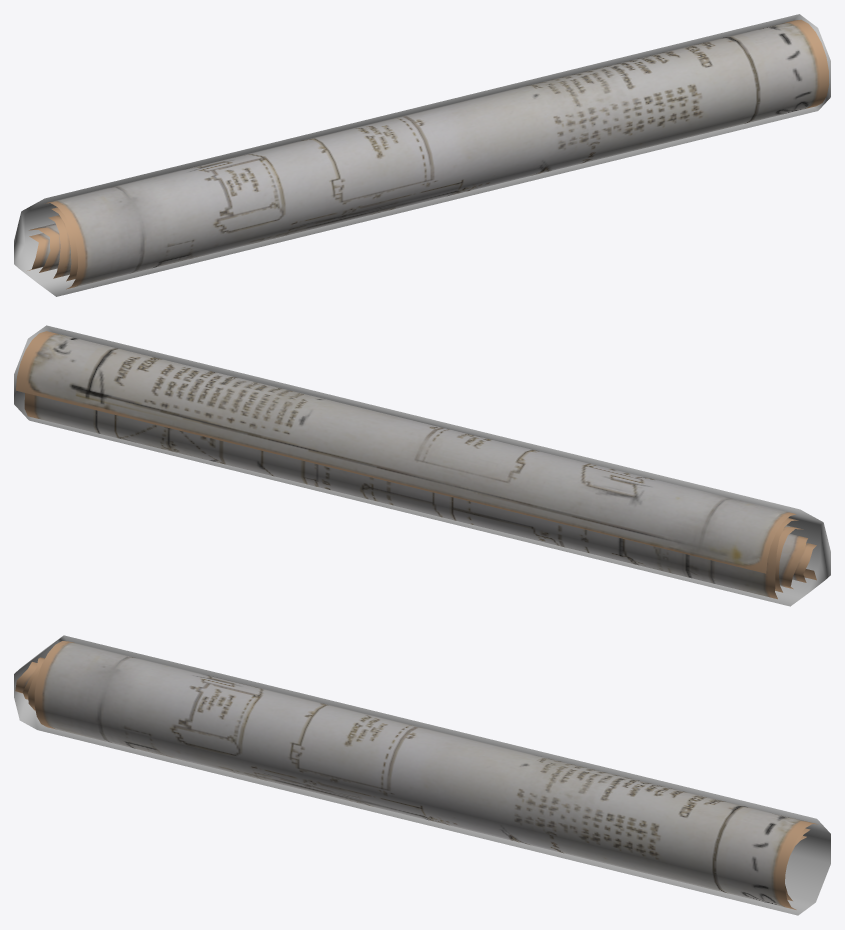
Rendered from SM_Scroll_03.gltf.
3 renders of one model, top to bottom at view 1: azimuth 30°, elevation 25°; view 2: azimuth 150°, elevation 25°; view 3: azimuth 330°, elevation 25°, orthographic.
Parts seen in each view (by area): view 1: SM_Scroll_03_LOD0, SM_Scroll_03_ConvexHulls; view 2: SM_Scroll_03_LOD0, SM_Scroll_03_ConvexHulls; view 3: SM_Scroll_03_LOD0, SM_Scroll_03_ConvexHulls.
Boxes of the visible parts, x1,y1,x2,y2 form: SM_Scroll_03_LOD0: (27,19,829,289); SM_Scroll_03_ConvexHulls: (14,14,830,296); SM_Scroll_03_LOD0: (16,331,816,599); SM_Scroll_03_ConvexHulls: (14,325,830,606); SM_Scroll_03_LOD0: (15,641,817,909); SM_Scroll_03_ConvexHulls: (14,635,830,915).
Size of what is drawn, in the model's own units: 0.6577 by 0.0666 by 0.066.
